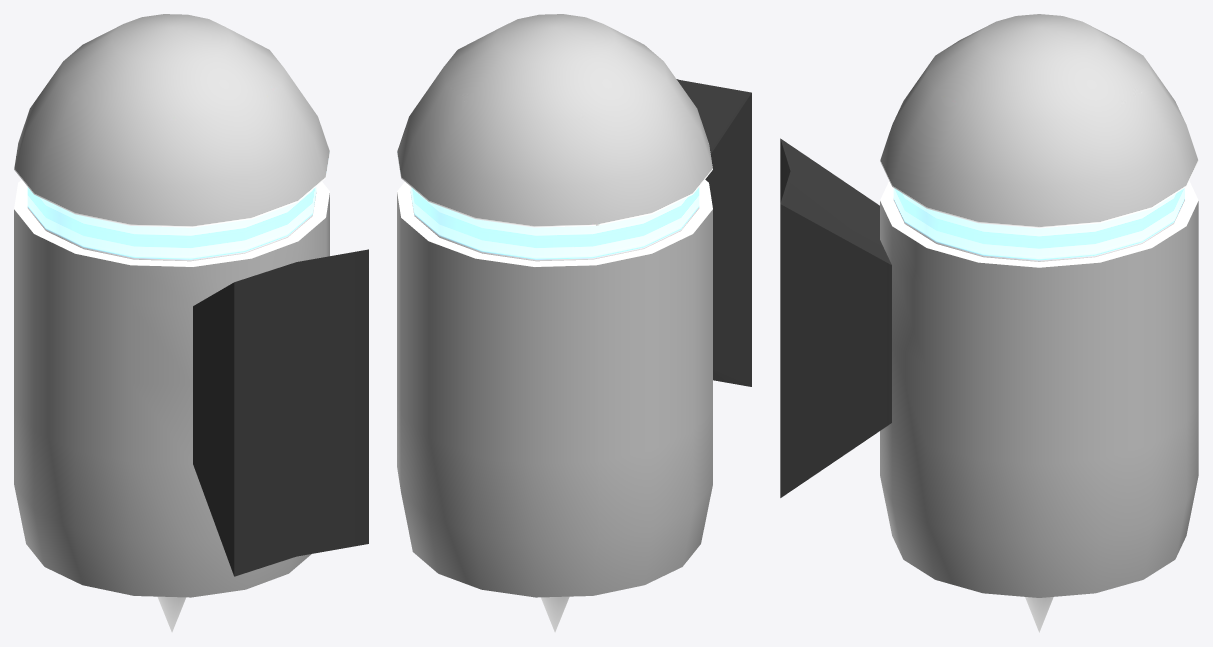
File: Thruster_pack_.fbx
3 renders of one model, left to right at view 1: azimuth 30°, elevation 25°; view 2: azimuth 150°, elevation 25°; view 3: azimuth 270°, elevation 25°, orthographic.
Parts seen in each view (by area): view 1: Capsule; view 2: Capsule; view 3: Capsule.
Boxes of the visible parts, box(x1,y1,x2,y2) form: Capsule: box(14, 14, 368, 632); Capsule: box(397, 14, 751, 632); Capsule: box(780, 14, 1198, 632).
Bounding box in the file's own units: 71 × 149 × 93.21.
Materials: 1 (1 with a texture image).
